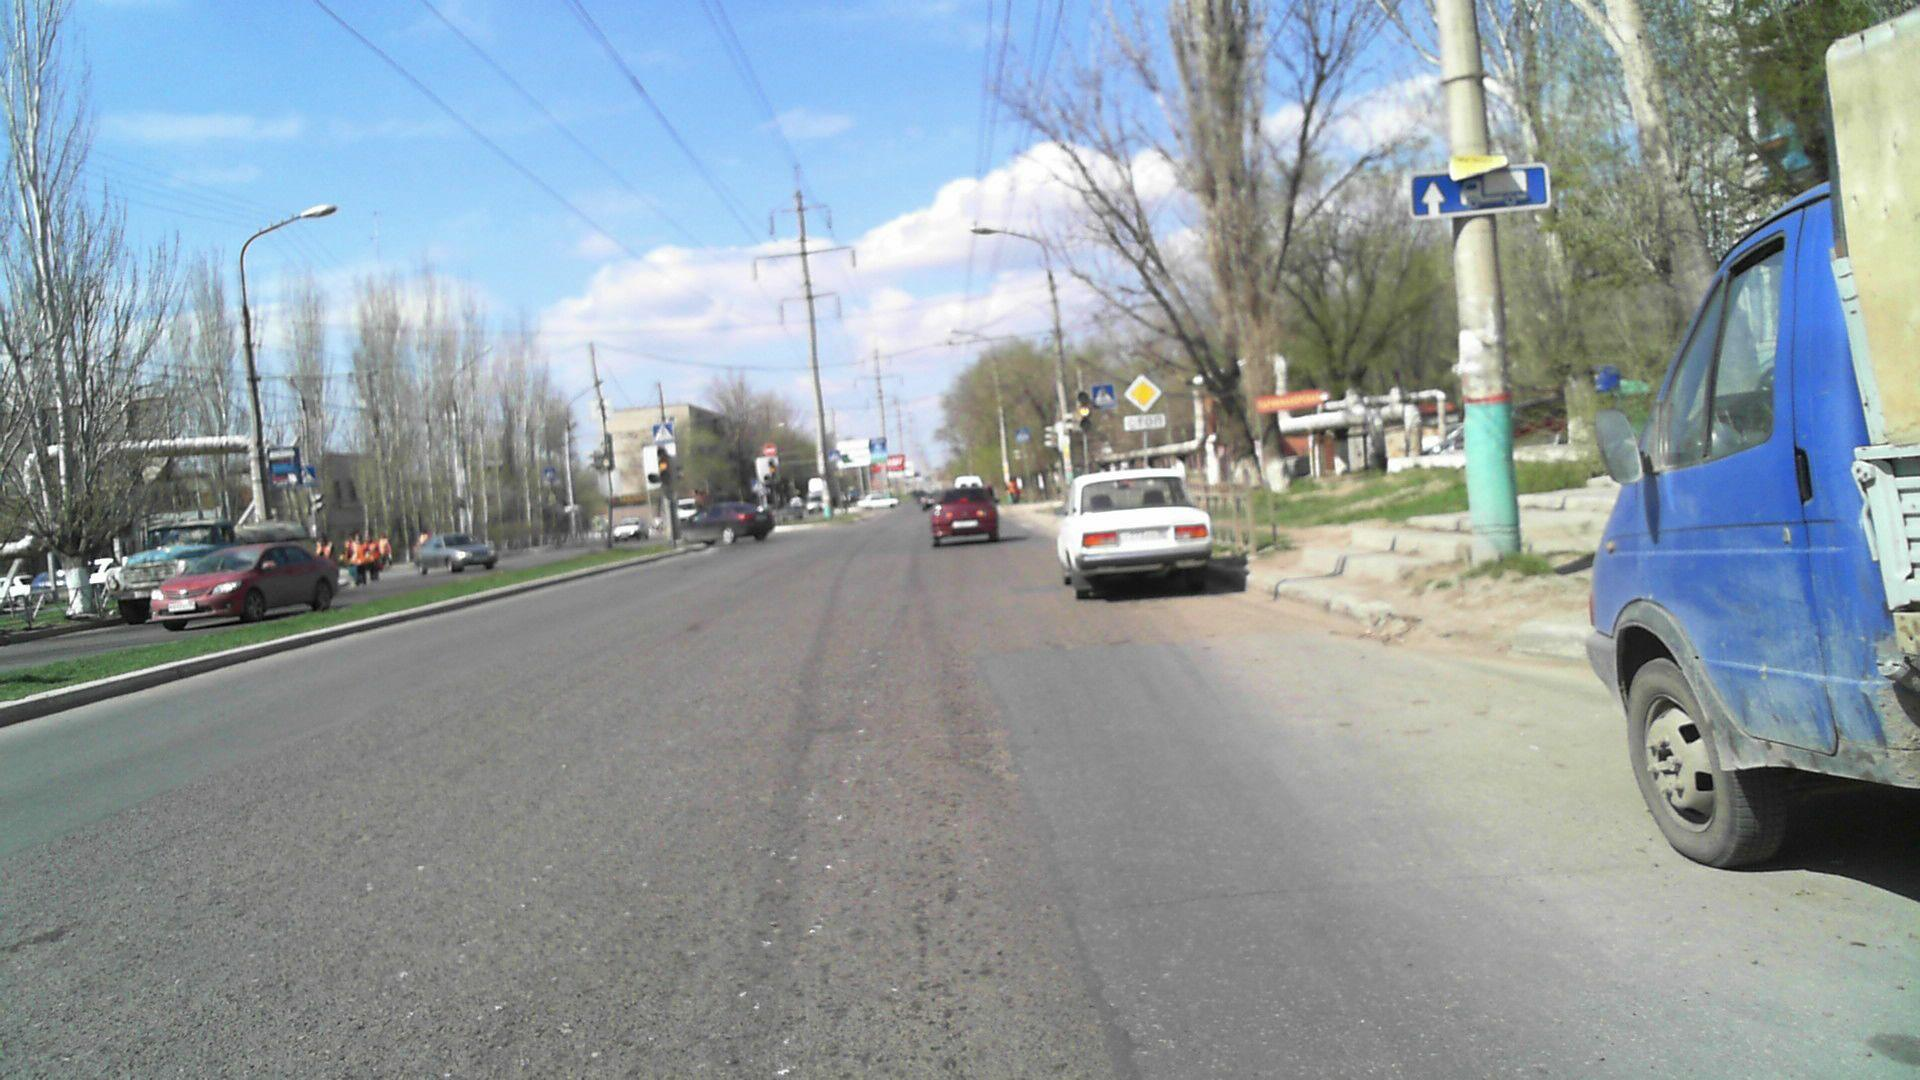2_1: (1121, 372, 1167, 410)
3_1: (764, 444, 777, 457)
5_19_1: (1091, 382, 1117, 411), (1014, 422, 1035, 446)
5_19_2: (652, 423, 675, 445), (296, 464, 317, 486), (541, 463, 562, 483), (828, 446, 843, 465)
6_15_1: (1411, 164, 1554, 215)
6_16: (1118, 411, 1168, 432)
